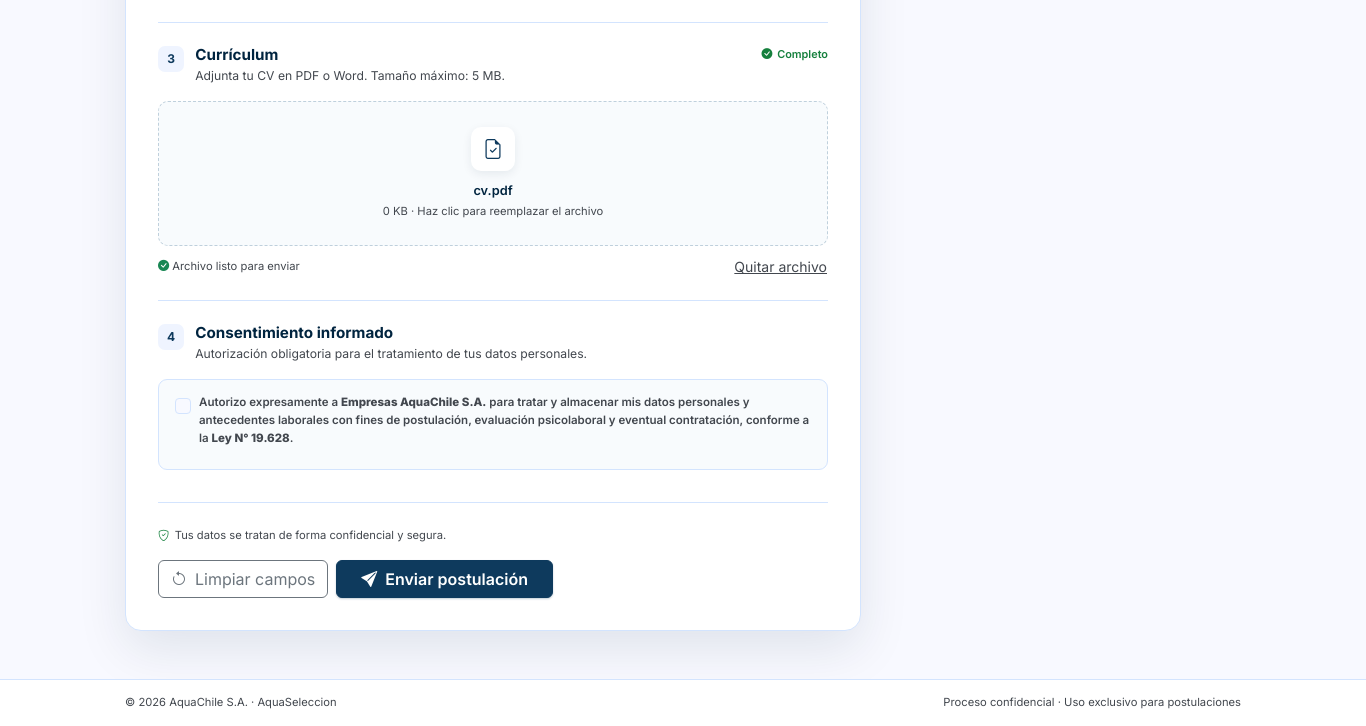
Postular: validacion del formulario › muestra el modal de éxito sin número de seguimiento
The image size is (1366, 726).
Earlier steps of the test are not shown.
(page scrolled)
What coordinates should you click on to do the following:
click the checkbox labelled "Autorizo"
I would click on:
 (183, 406)
Its box is [175,398,191,414].
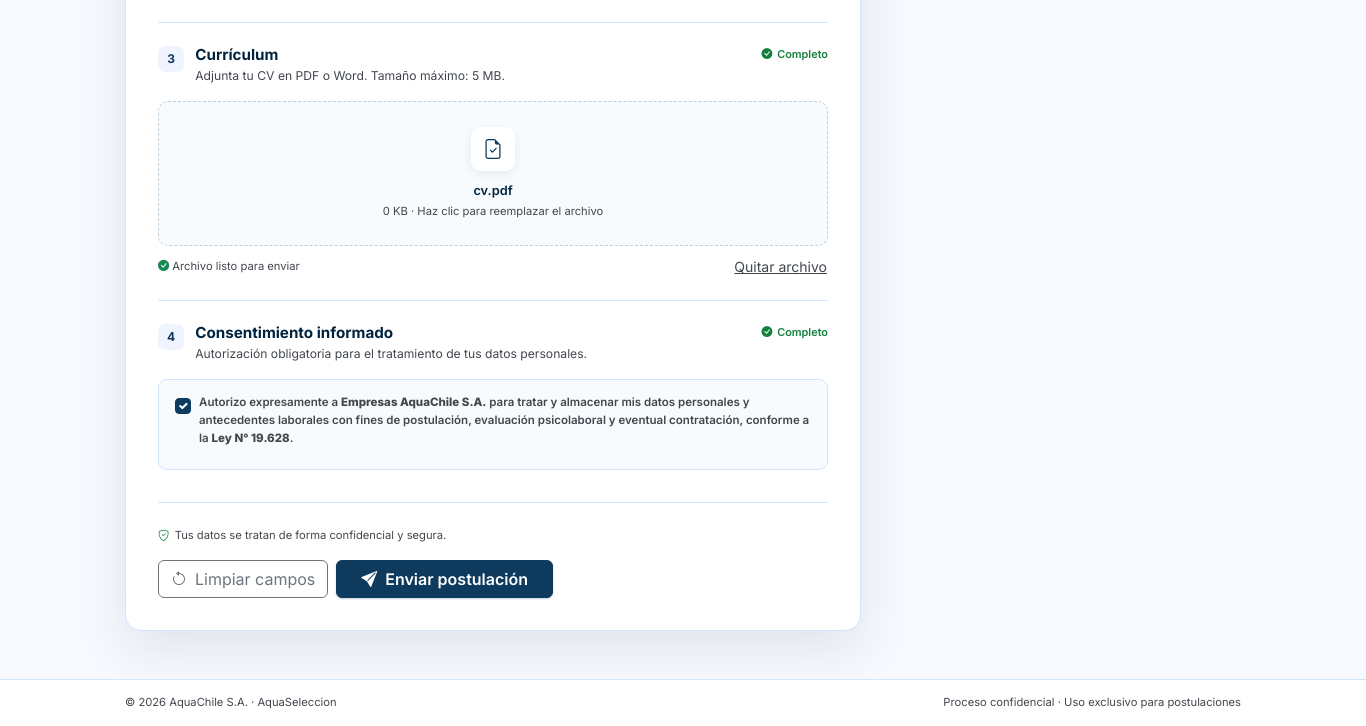
What coordinates should you click on to do the following:
click the button "Enviar postulación"
I would click on:
 (445, 579)
Its box is [336,560,553,598].
(page scrolled)
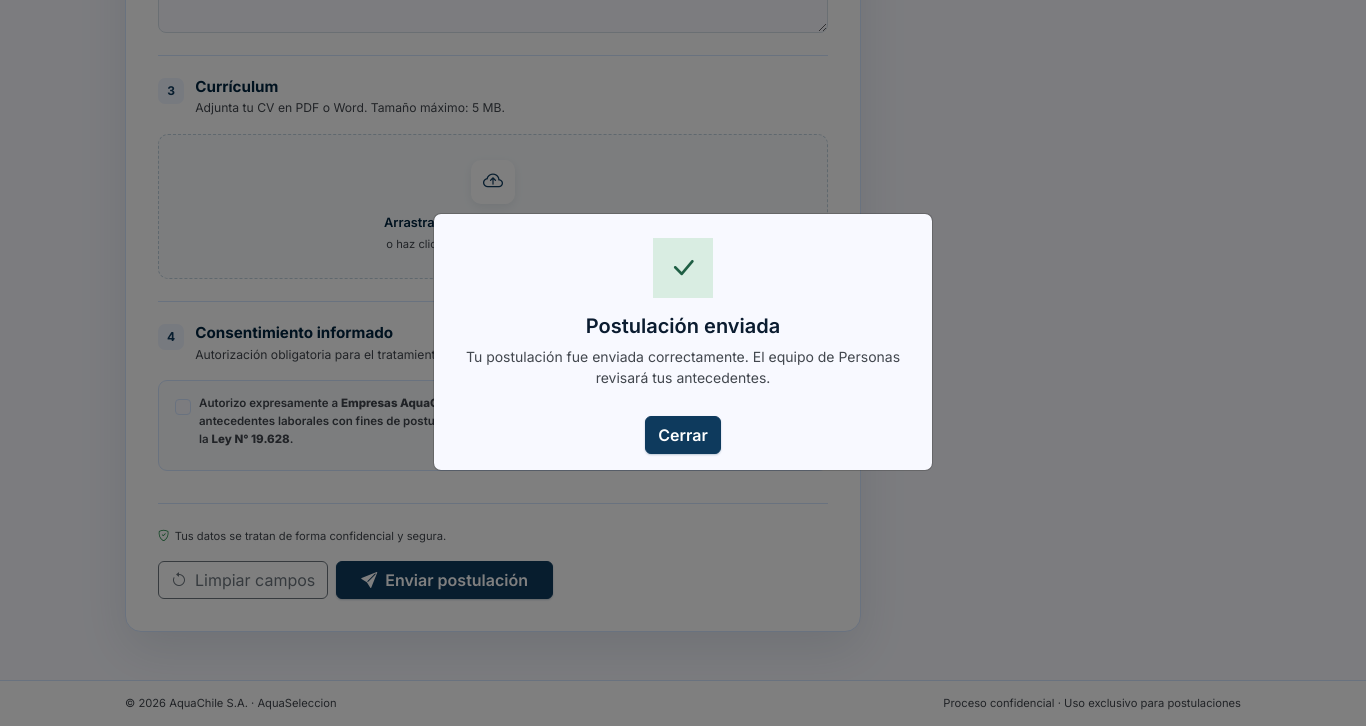
Result: the heading "Postulación enviada" is shown at [586,314,780,338]
Result: the text "Tu postulación fue enviada correctamente. El equipo de Personas revisará tus antecedentes." is shown at [466,348,900,386]
